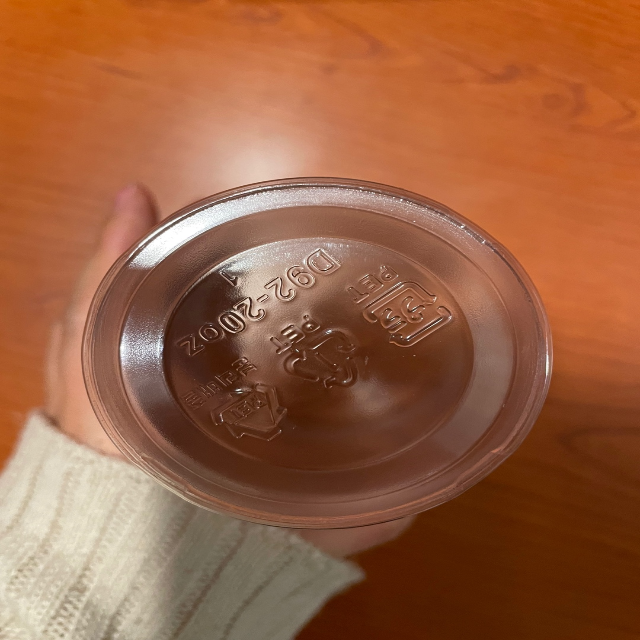pet: (344, 257, 456, 349), (182, 354, 287, 446), (268, 310, 363, 394)
